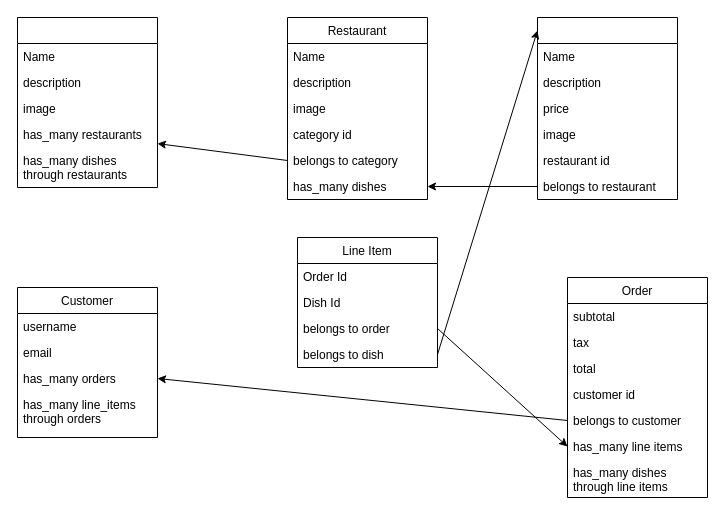
This 725x518 diagram has some shape labels left out. The box of each missing label's shape, as (x1, y1, x2, y2) in pixels:
Category: (16, 16, 158, 188)
Dish: (536, 16, 678, 200)
